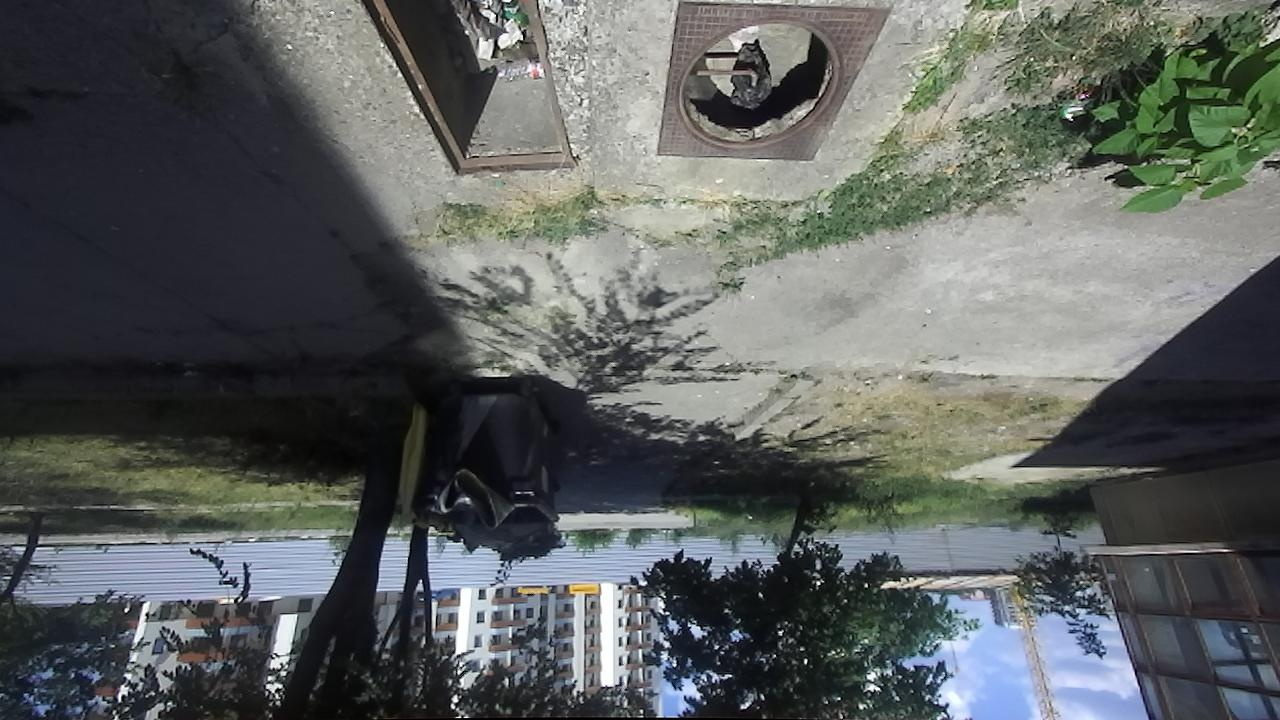drain: (359, 0, 579, 180), (673, 20, 854, 152)
